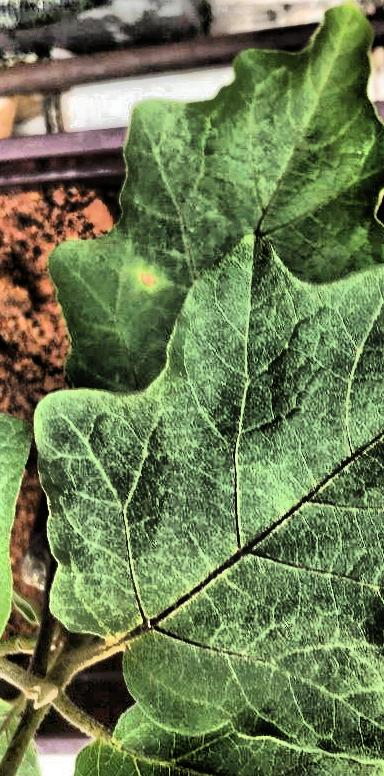HEALTHY: (28, 0, 384, 543)
